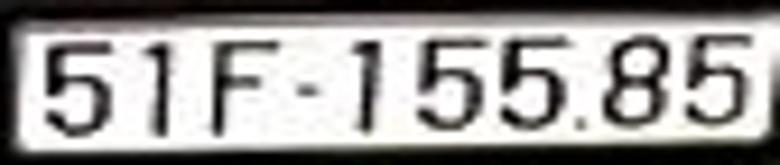-: (292, 84, 318, 95)
.: (576, 119, 584, 129)
1: (354, 42, 380, 132), (147, 42, 172, 135)
5: (499, 37, 566, 130), (46, 44, 110, 137), (421, 39, 484, 130), (687, 33, 747, 125)
8: (606, 37, 666, 125)
F: (213, 42, 274, 137)
